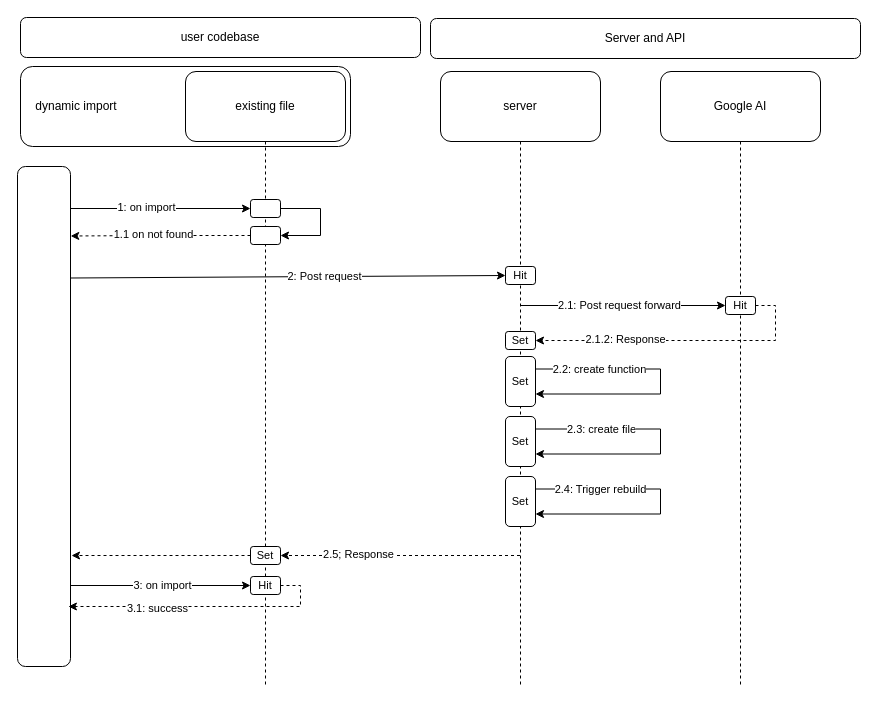
The diagram is 878 pixels wide and 704 high, and some of its shapes have lost their labels. The centre of each missing label's shape, as x and y in pixels:
"Error" goes at (x=265, y=235).
"Miss" goes at (x=265, y=208).
"Render component" goes at (x=43, y=416).
